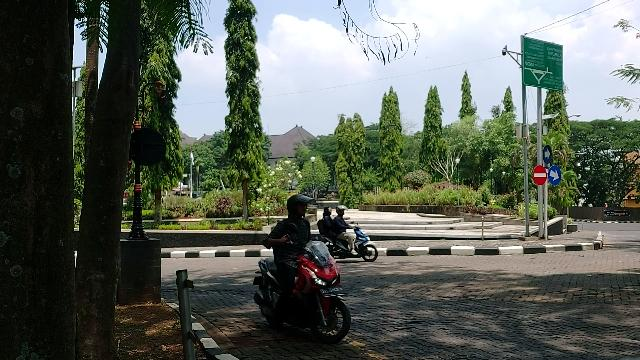helm: (288, 195, 317, 215), (338, 207, 349, 216)
motor: (256, 242, 351, 344), (331, 226, 378, 266)
non-helm: (325, 208, 333, 215)
